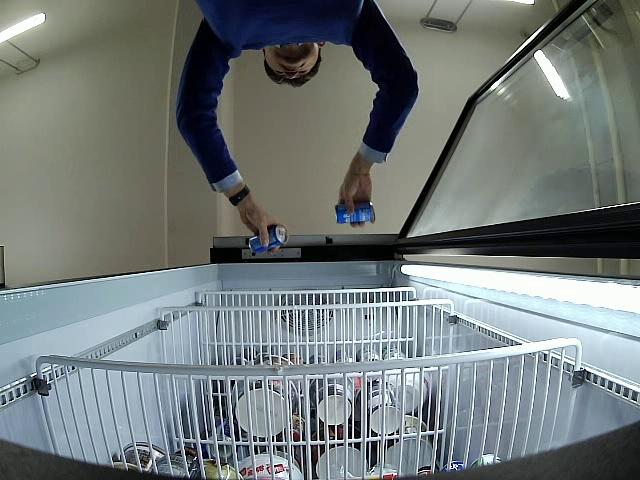00_hand: (239, 203, 284, 254), (340, 171, 377, 228)
15_letsbe: (248, 224, 289, 254), (334, 205, 375, 224)
